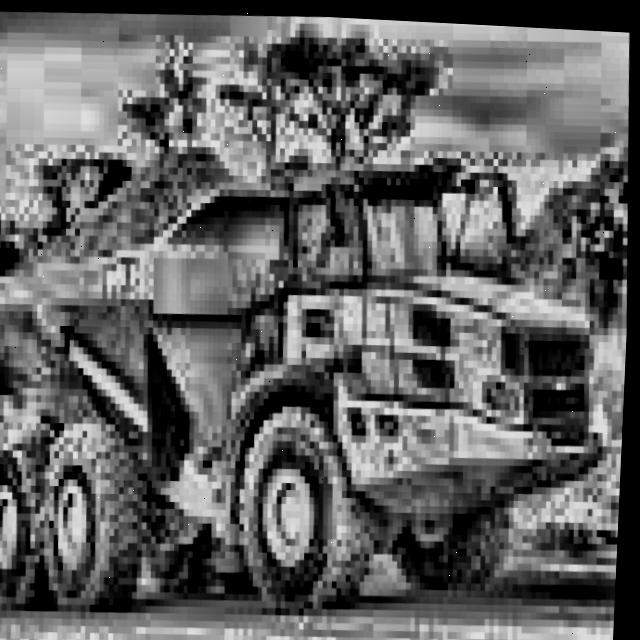dump_truck: (0, 72, 637, 640)
